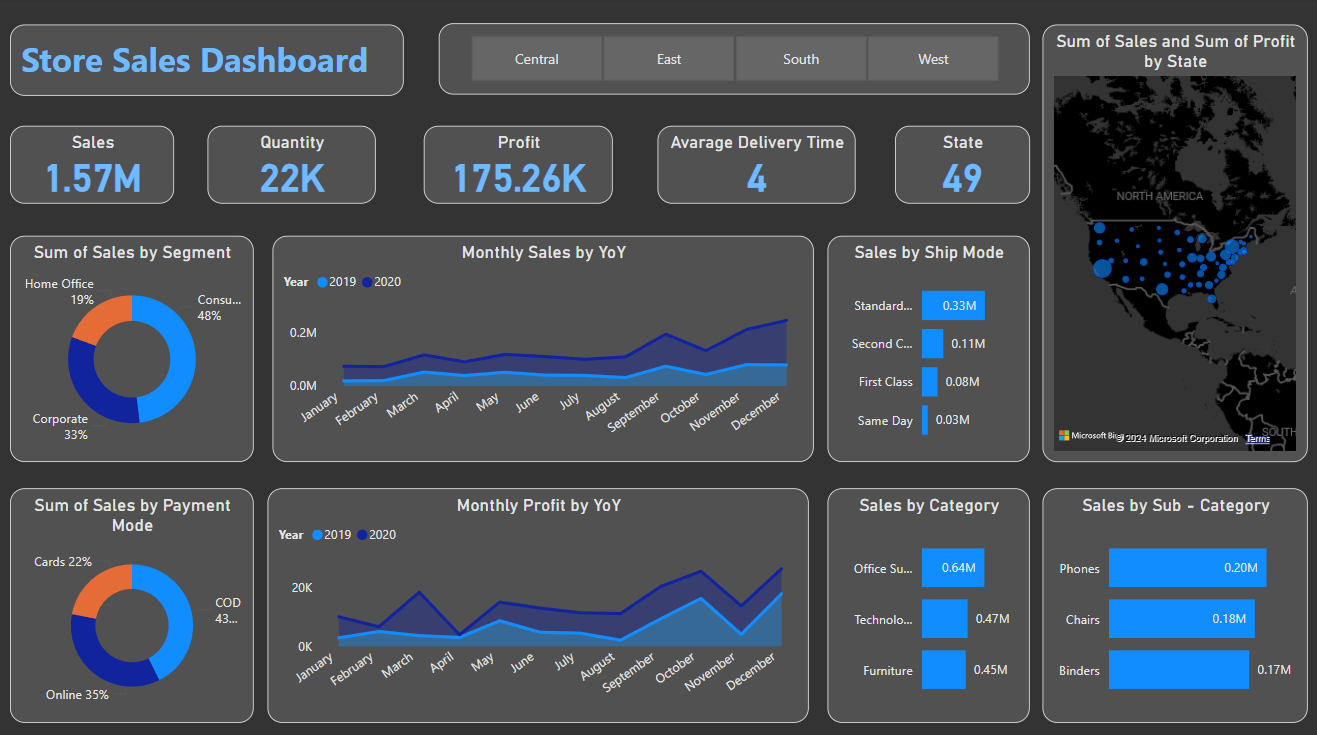

What the dashboard file says about the page in this screenshot:
{"tool":"powerbi","page":{"name":"Page 1","canvas":[1280,720],"ordinal":0},"visuals":[{"type":"clusteredBarChart","title":"Sales by Category","fields":{"Category":["SuperStore_Sales_Dataset.Category"],"Y":["Sum(SuperStore_Sales_Dataset.Sales)"]},"box":[803.8,473.8,195,226.2],"z":0},{"type":"clusteredBarChart","title":"Sales by Sub - Category","fields":{"Category":["SuperStore_Sales_Dataset.Sub-Category"],"Y":["Sum(SuperStore_Sales_Dataset.Sales)"]},"box":[1011.2,473.8,256.2,226.2],"z":1000},{"type":"clusteredBarChart","title":"Sales by Ship Mode","fields":{"Category":["SuperStore_Sales_Dataset.Ship Mode"],"Y":["Sum(SuperStore_Sales_Dataset.Sales)"]},"box":[803.8,230.5,195,218.8],"z":2000},{"type":"stackedAreaChart","title":"Monthly Sales by YoY","fields":{"Y":["Sum(SuperStore_Sales_Dataset.Sales)"],"Category":["SuperStore_Sales_Dataset.Order Date.Variation.Date Hierarchy.Month","SuperStore_Sales_Dataset.Order Date.Variation.Date Hierarchy.Day"],"Series":["SuperStore_Sales_Dataset.Order Date.Variation.Date Hierarchy.Year"]},"box":[267.5,230.5,522.5,218.8],"z":3000},{"type":"stackedAreaChart","title":"Monthly Profit by YoY","fields":{"Category":["SuperStore_Sales_Dataset.Order Date.Variation.Date Hierarchy.Month","SuperStore_Sales_Dataset.Order Date.Variation.Date Hierarchy.Day"],"Series":["SuperStore_Sales_Dataset.Order Date.Variation.Date Hierarchy.Year"],"Y":["Sum(SuperStore_Sales_Dataset.Profit)"]},"box":[262.5,473.8,522.5,226.2],"z":4000},{"type":"map","fields":{"Category":["SuperStore_Sales_Dataset.State"],"Size":["Sum(SuperStore_Sales_Dataset.Sales)"]},"box":[1011,26.5,255.8,422.3],"z":5000},{"type":"donutChart","fields":{"Category":["SuperStore_Sales_Dataset.Segment"],"Y":["Sum(SuperStore_Sales_Dataset.Sales)"]},"box":[15,230.5,235,218.8],"z":6000},{"type":"donutChart","fields":{"Category":["SuperStore_Sales_Dataset.Payment Mode"],"Y":["Sum(SuperStore_Sales_Dataset.Sales)"]},"box":[15,473.8,235,226.2],"z":7000},{"type":"slicer","fields":{"Values":["SuperStore_Sales_Dataset.Region"]},"box":[428.8,25,570,68.8],"z":8000},{"type":"textbox","box":[15,26.2,380,68.8],"z":9000},{"type":"card","title":"Sales","fields":{"Values":["Sum(SuperStore_Sales_Dataset.Sales)"]},"box":[15,123.8,158.8,75],"z":10000},{"type":"card","title":"Quantity","fields":{"Values":["Sum(SuperStore_Sales_Dataset.Quantity)"]},"box":[205,123.8,162.5,75],"z":11000},{"type":"card","title":"Profit","fields":{"Values":["Sum(SuperStore_Sales_Dataset.Profit)"]},"box":[413.8,123.8,182.5,75],"z":12000},{"type":"card","title":"Avarage Delivery Time","fields":{"Values":["Avg(SuperStore_Sales_Dataset.AvgDeliveryTime)"]},"box":[640,123.8,191.2,75],"z":13000},{"type":"card","title":"State","fields":{"Values":["Count(SuperStore_Sales_Dataset.State)"]},"box":[868.8,123.8,130,75],"z":14000}]}

Visuals, with their boxes in screenshot pixels (x1, y1, x2, y2), scaled from the page's 1280x720 canvas onto the 1317x735 screenshot:
"Sales by Category" clusteredBarChart: bbox(827, 484, 1028, 715)
"Sales by Sub - Category" clusteredBarChart: bbox(1040, 484, 1304, 715)
"Sales by Ship Mode" clusteredBarChart: bbox(827, 235, 1028, 459)
"Monthly Sales by YoY" stackedAreaChart: bbox(275, 235, 813, 459)
"Monthly Profit by YoY" stackedAreaChart: bbox(270, 484, 808, 715)
map - SuperStore_Sales_Dataset.State x Sum(SuperStore_Sales_Dataset.Sales): bbox(1040, 27, 1303, 458)
donutChart - SuperStore_Sales_Dataset.Segment x Sum(SuperStore_Sales_Dataset.Sales): bbox(15, 235, 257, 459)
donutChart - SuperStore_Sales_Dataset.Payment Mode x Sum(SuperStore_Sales_Dataset.Sales): bbox(15, 484, 257, 715)
slicer - SuperStore_Sales_Dataset.Region: bbox(441, 26, 1028, 96)
textbox: bbox(15, 27, 406, 97)
"Sales" card: bbox(15, 126, 179, 203)
"Quantity" card: bbox(211, 126, 378, 203)
"Profit" card: bbox(426, 126, 614, 203)
"Avarage Delivery Time" card: bbox(658, 126, 855, 203)
"State" card: bbox(894, 126, 1028, 203)
